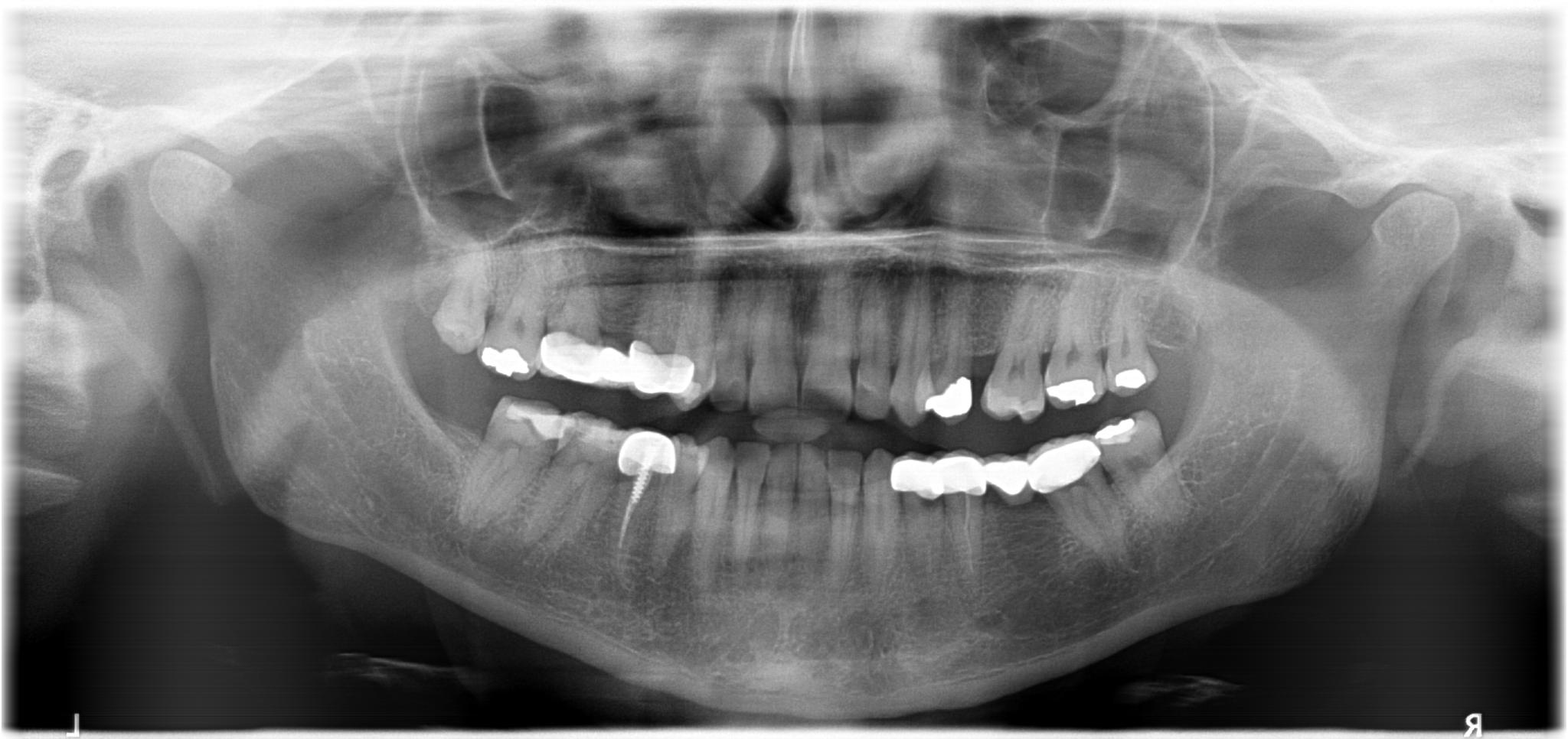Premolars: (607, 274, 1568, 739), (485, 231, 1400, 675), (563, 213, 1568, 581), (305, 249, 938, 706), (314, 205, 882, 613), (301, 208, 868, 608), (266, 199, 810, 555), (203, 165, 663, 526), (231, 102, 667, 375)
